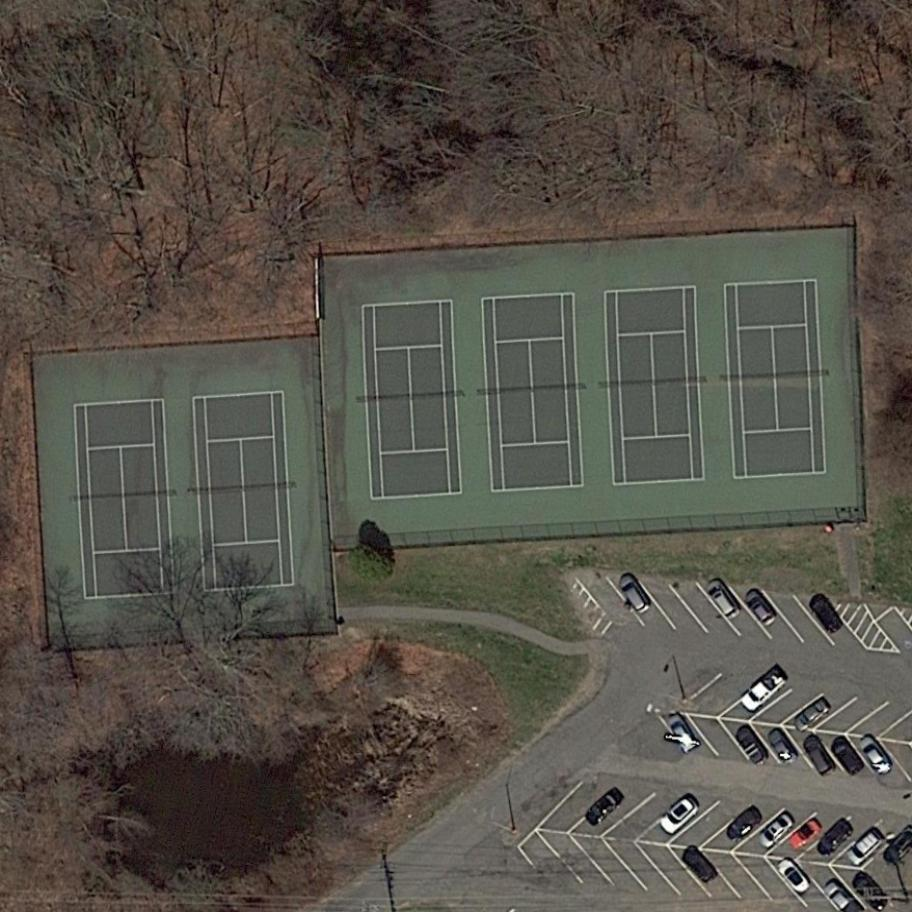small-vehicle: (739, 668, 790, 716), (797, 731, 841, 781), (812, 816, 859, 862), (656, 793, 703, 838), (805, 591, 849, 638), (613, 568, 655, 617), (722, 801, 768, 845), (734, 722, 777, 769), (702, 575, 745, 622), (755, 809, 800, 852), (844, 826, 888, 869), (855, 733, 896, 779), (826, 736, 868, 780), (678, 844, 720, 888), (774, 854, 815, 899), (663, 710, 703, 756), (583, 787, 625, 829), (792, 693, 835, 734), (764, 726, 804, 770), (851, 872, 892, 912), (741, 588, 780, 630), (786, 817, 825, 852), (824, 882, 851, 911)
